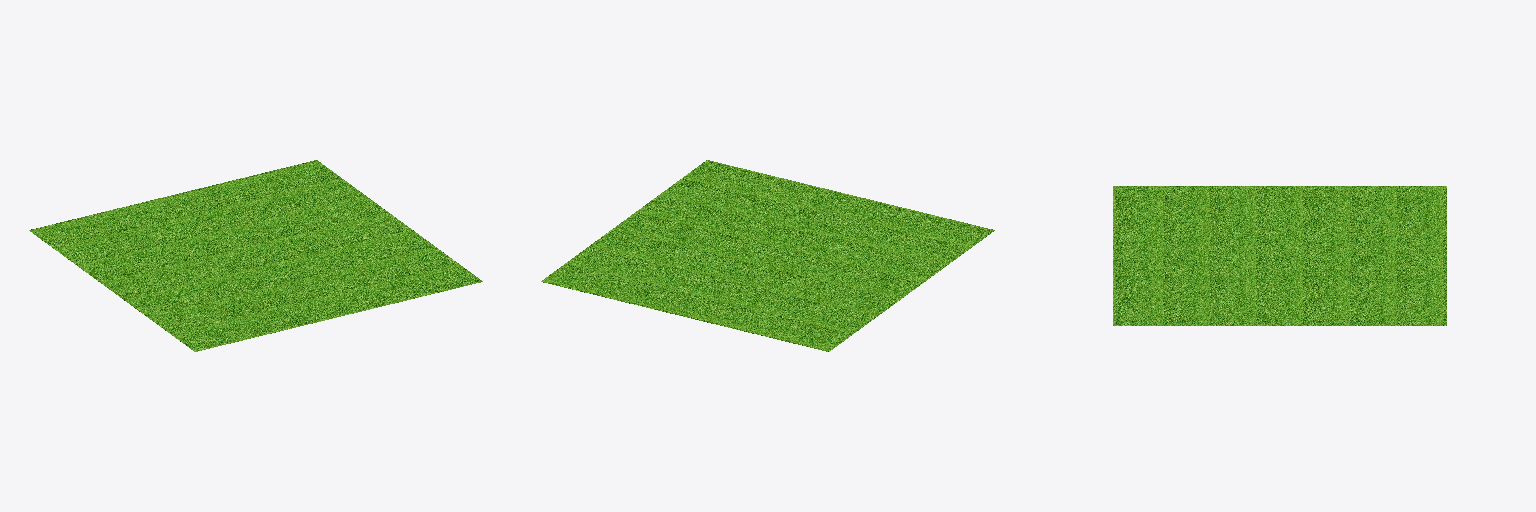
3 views of the same model, side by side, from view 1: azimuth 30°, elevation 25°; view 2: azimuth 150°, elevation 25°; view 3: azimuth 270°, elevation 25° (orthographic).
Visible parts, largest first — view 1: pCube29; view 2: pCube29; view 3: pCube29.
Part boxes in pixels (x1,y1,x2,y2): pCube29: (29, 160, 482, 351); pCube29: (541, 160, 994, 351); pCube29: (1113, 186, 1446, 325).
Size of the model in its own units: 183 by 0.0315 by 183.
Materials: 1 (1 with a texture image).